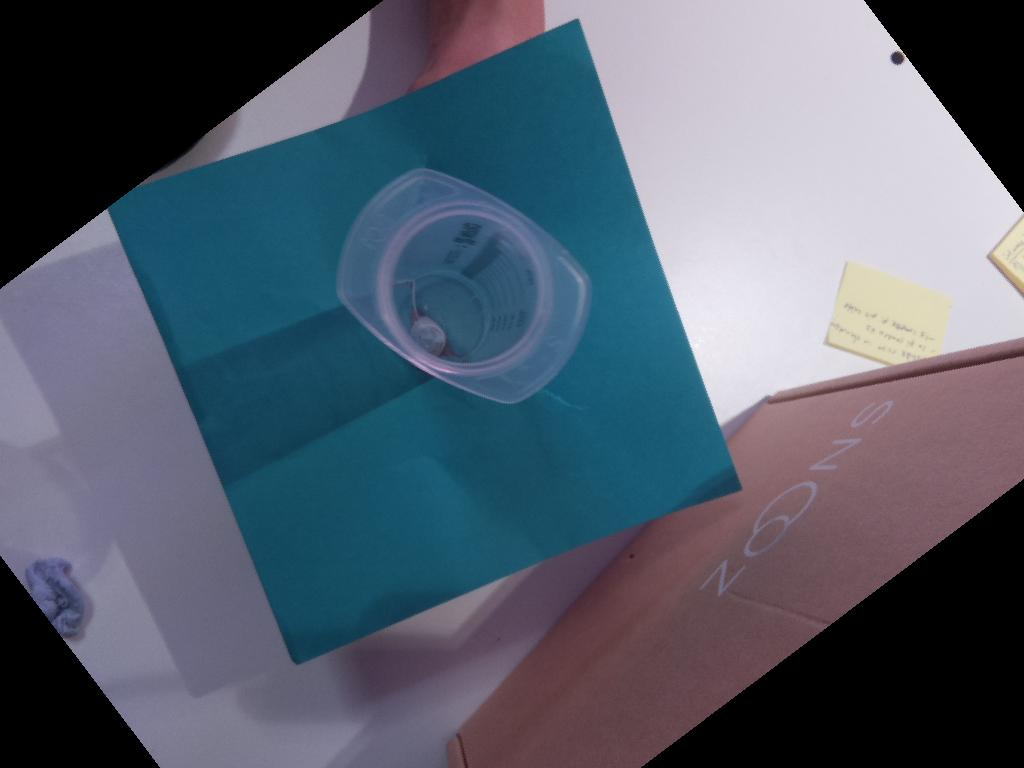clean: (333, 169, 594, 406)
